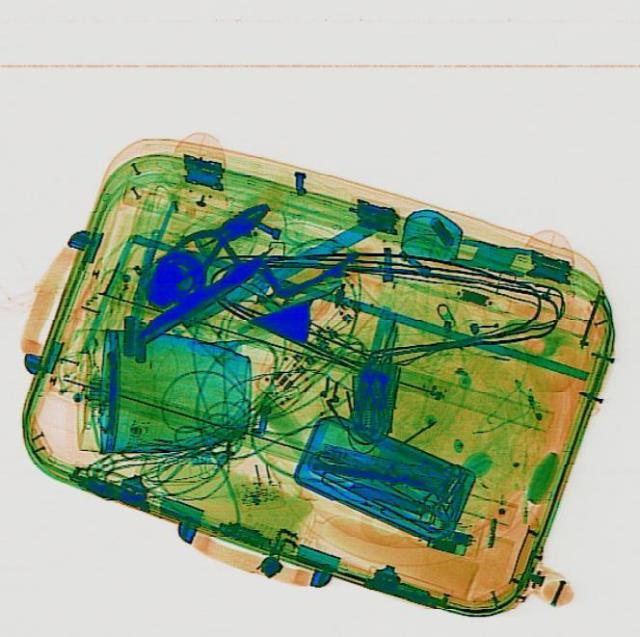Pliers: (139, 189, 279, 293)
